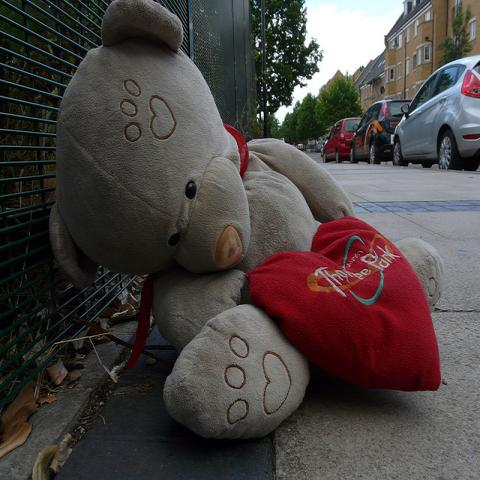car: (392, 57, 479, 174), (350, 99, 412, 164), (323, 117, 360, 163), (321, 142, 325, 156)
